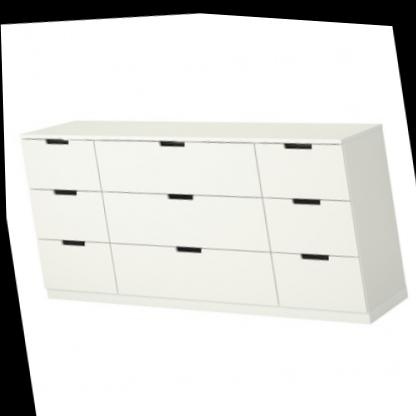Cabinet: (11, 72, 415, 362)
